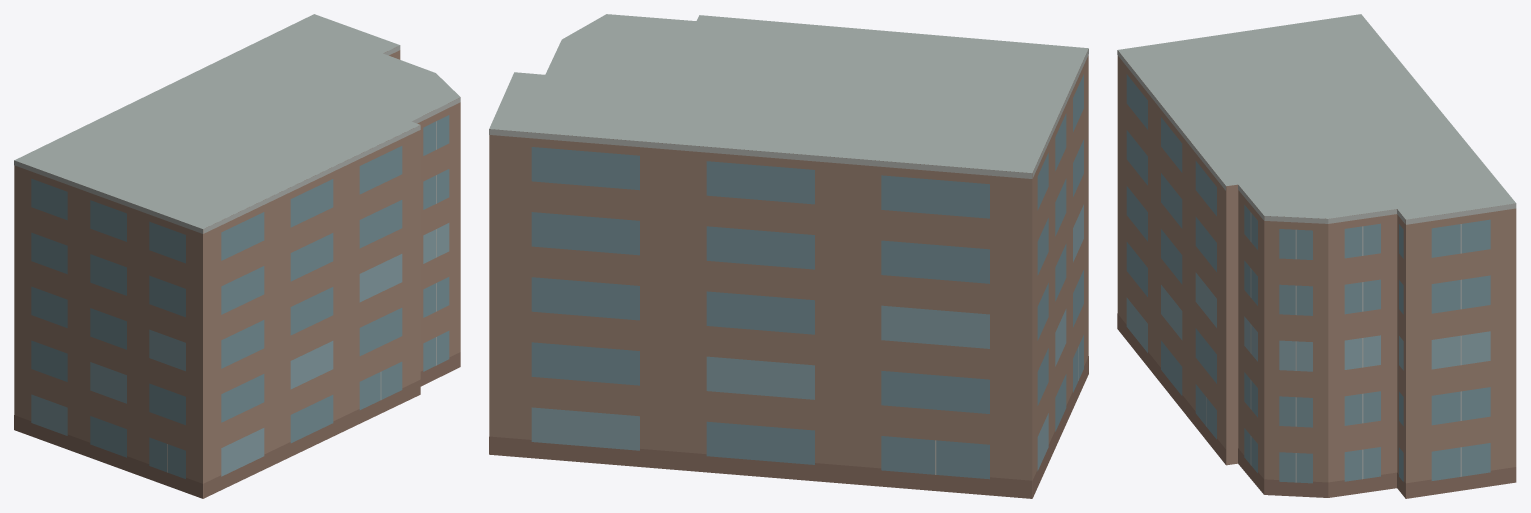
Rendered from survey-upis-33023679.glb.
3 views of the same model, side by side, from view 1: azimuth 30°, elevation 25°; view 2: azimuth 150°, elevation 25°; view 3: azimuth 270°, elevation 25° (orthographic). The views are drawn at different scales.
Visible parts, largest first — view 1: survey-upis-33023679.tmp; view 2: survey-upis-33023679.tmp; view 3: survey-upis-33023679.tmp.
Part boxes in pixels (x1,y1,x2,y2): survey-upis-33023679.tmp: (14,14,460,498); survey-upis-33023679.tmp: (489,14,1088,498); survey-upis-33023679.tmp: (1117,14,1516,498).
Bounding box in the file's own units: 21.28 × 13.45 × 17.43.
